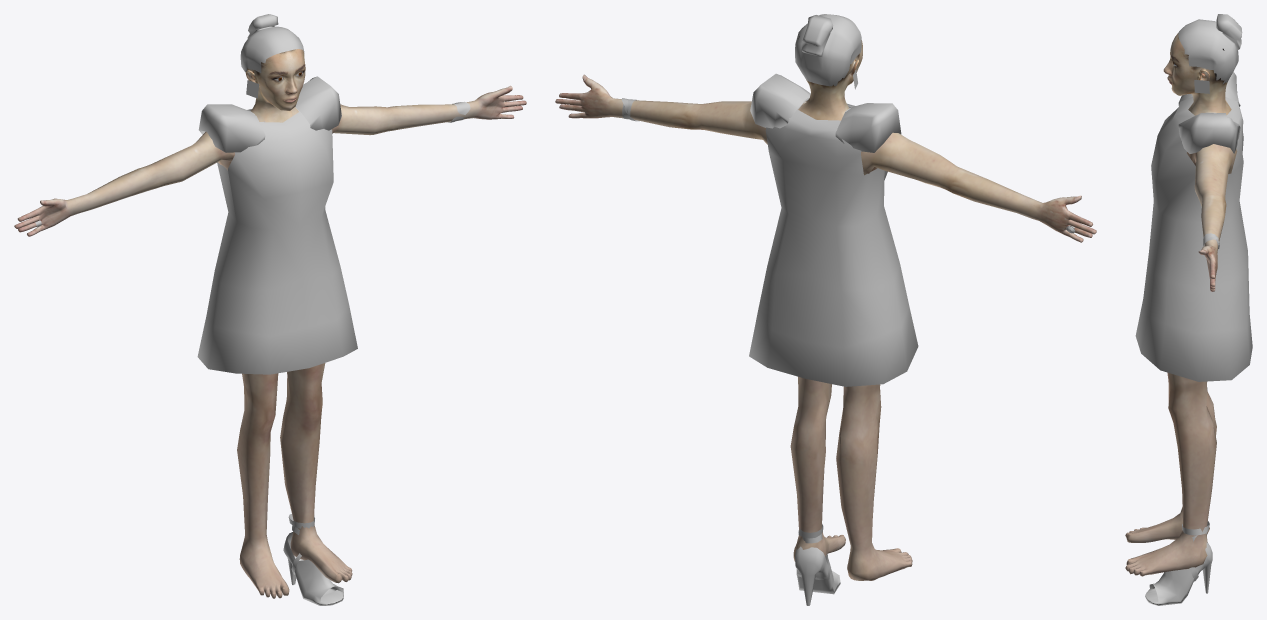
Rendered from TaraTest.fbx.
3 renders of one model, left to right at view 1: azimuth 30°, elevation 25°; view 2: azimuth 150°, elevation 25°; view 3: azimuth 270°, elevation 25°, orthographic. The views are drawn at different scales.
Visible parts, largest first — view 1: polySurface35, polySurface40; view 2: polySurface35, polySurface40; view 3: polySurface35, polySurface40.
Boxes of the visible parts, left/top/right/bottom form: polySurface35: left=35, top=14, right=470, bottom=605; polySurface40: left=14, top=49, right=526, bottom=598; polySurface35: left=621, top=14, right=1075, bottom=605; polySurface40: left=555, top=36, right=1096, bottom=580; polySurface35: left=1135, top=14, right=1252, bottom=605; polySurface40: left=1125, top=33, right=1237, bottom=576.
Bounding box in the file's own units: 179 × 189 × 38.59.
